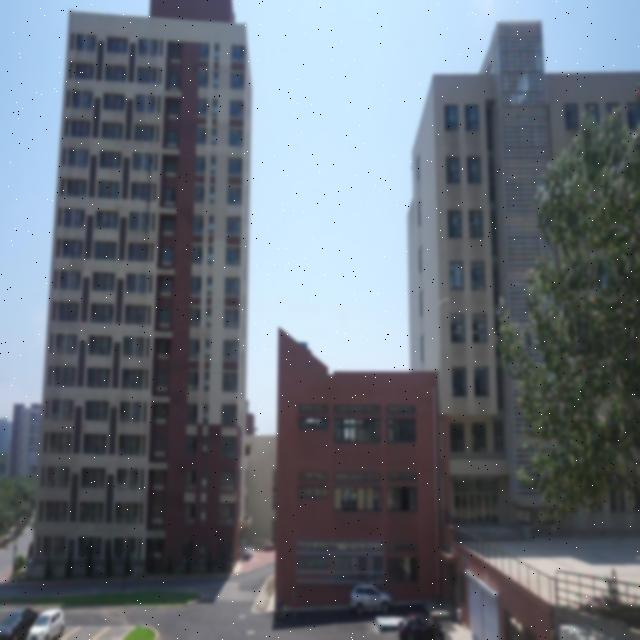UAV: (437, 298, 450, 306)
